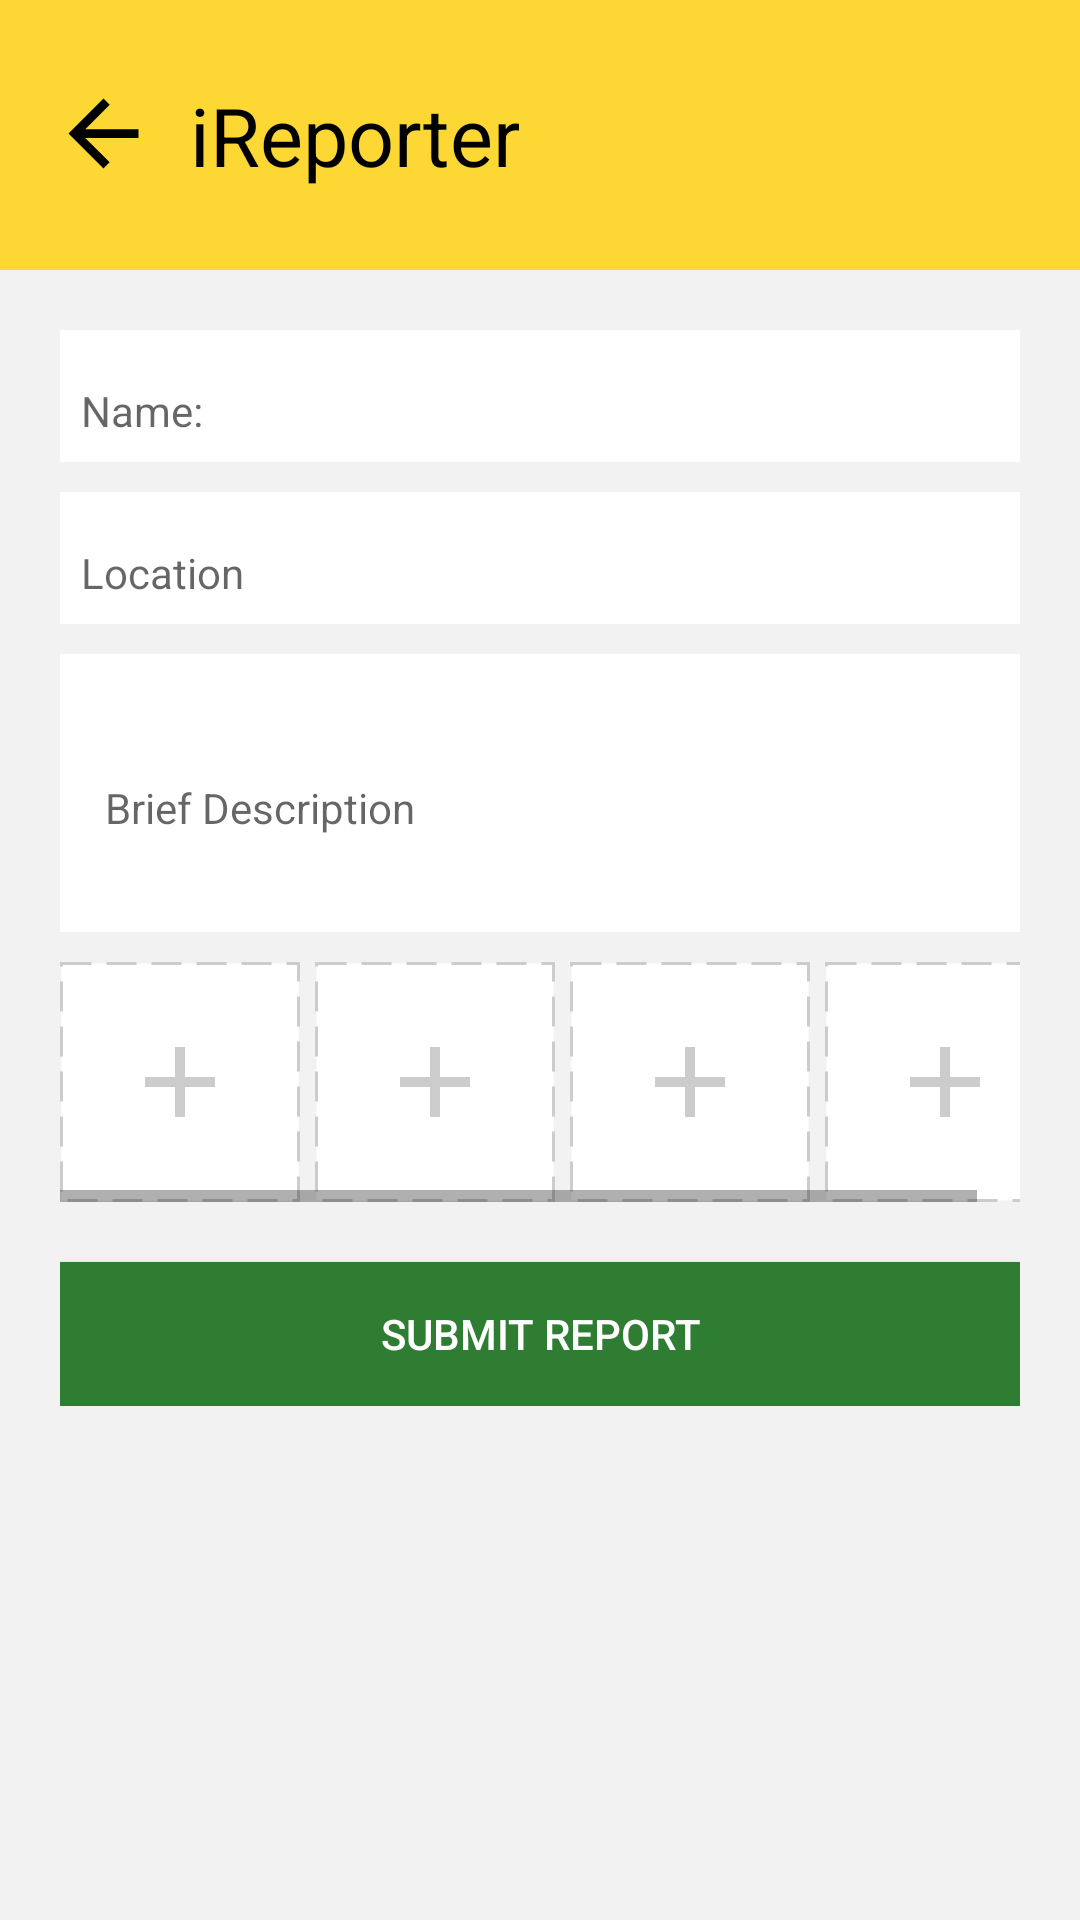

Screen size 1080×1920. Icon name, then its box in pixels as (x1, y1, x2, y2):
back: (68, 98, 139, 169)
